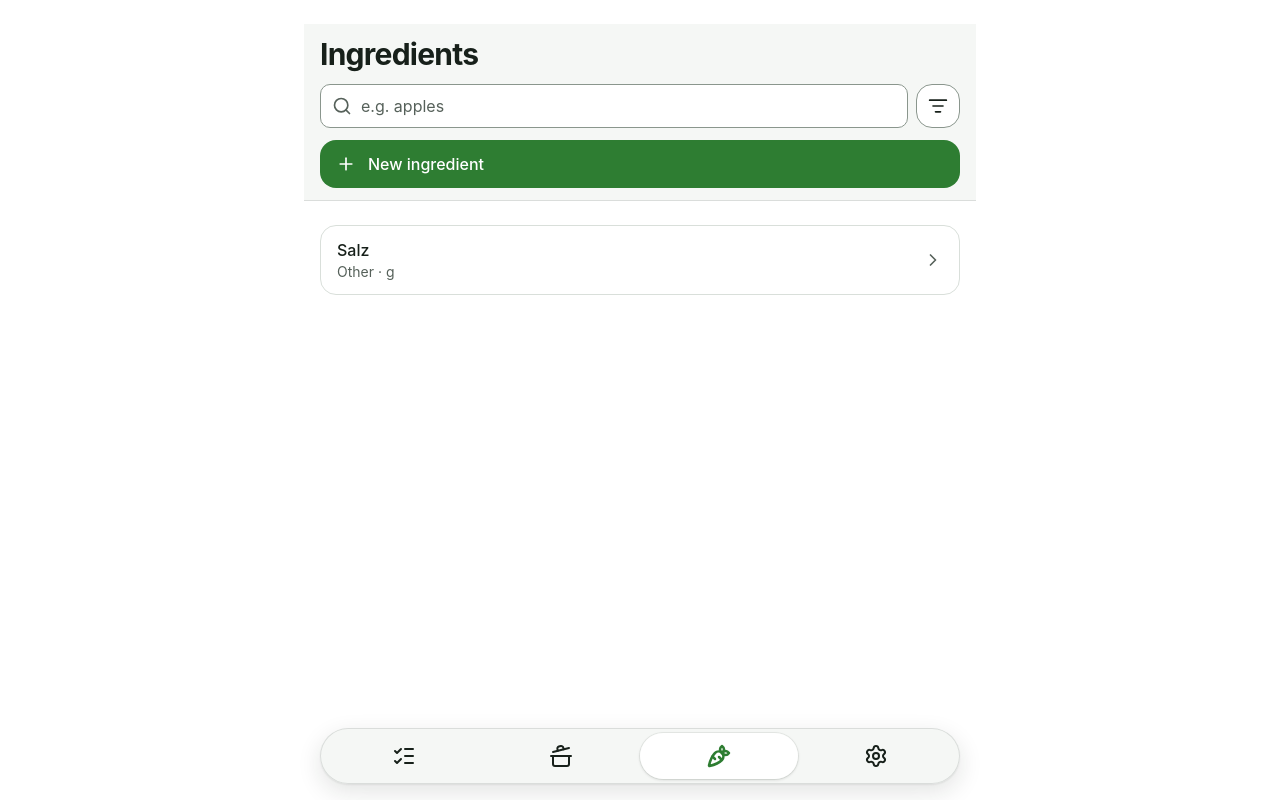
Test: OffSearchDialog › shows name, brand, package size, calories and the attribution (BAR-09, BAR-10)
Click the button with test id "new-ingredient".
click(426, 164)  # box [320,140,960,188]
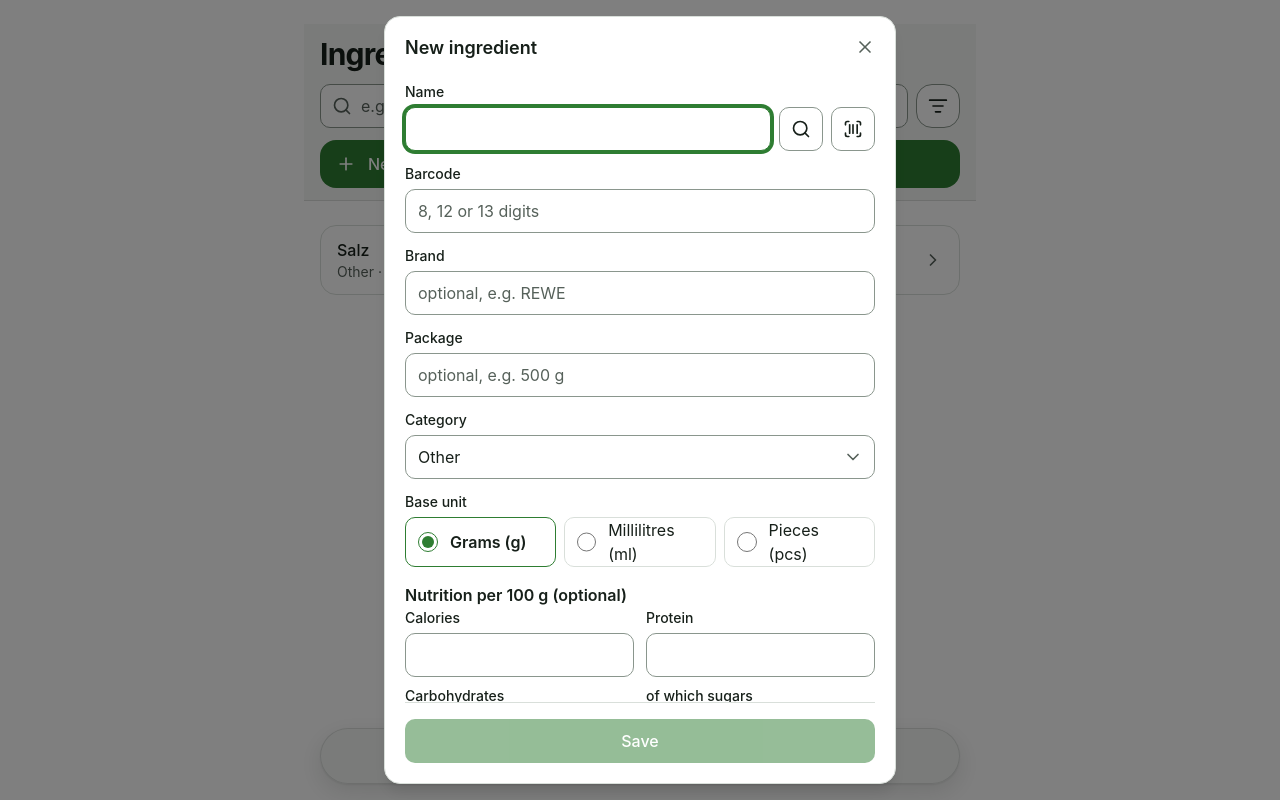
Type "Milch" into the field labelled "Name".
click(588, 129); type("Milch")  # box [405,107,771,151]
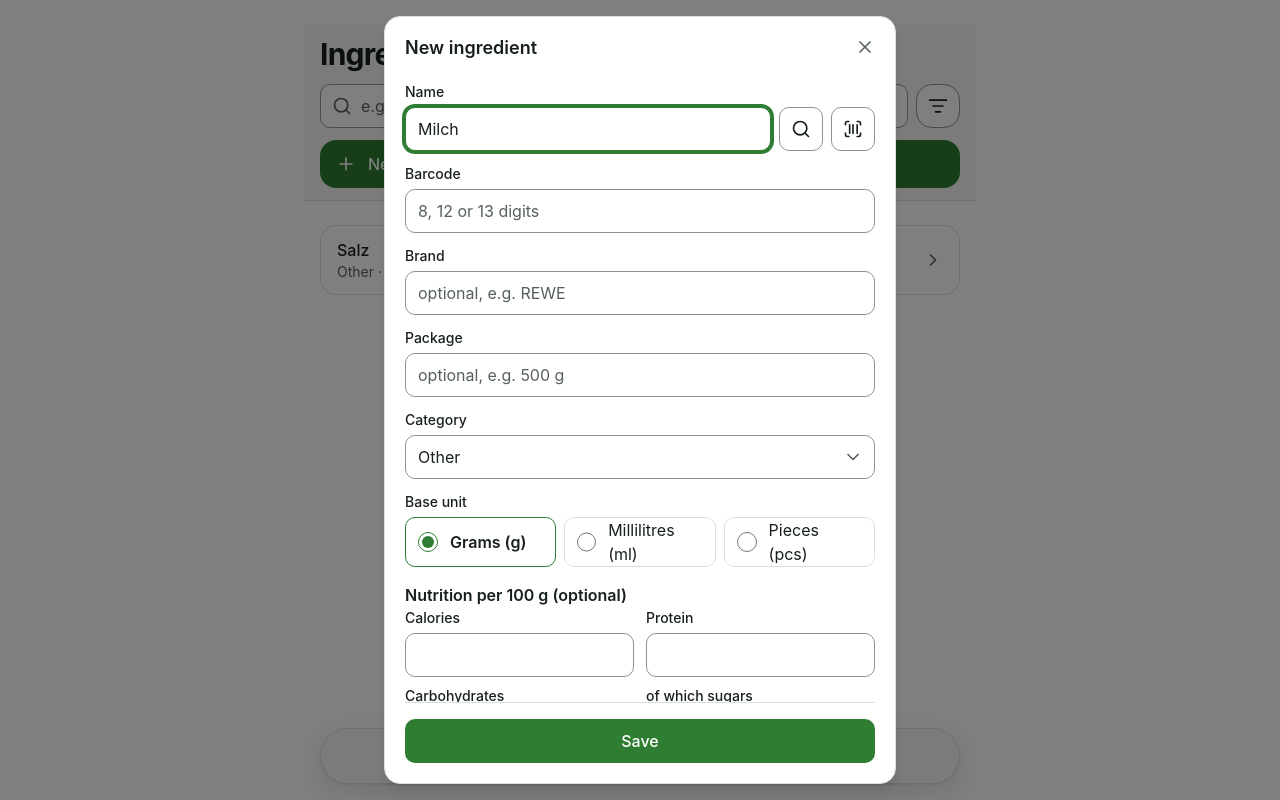
Click the button named "Search Open Food Facts".
click(801, 129)  # box [779,107,823,151]
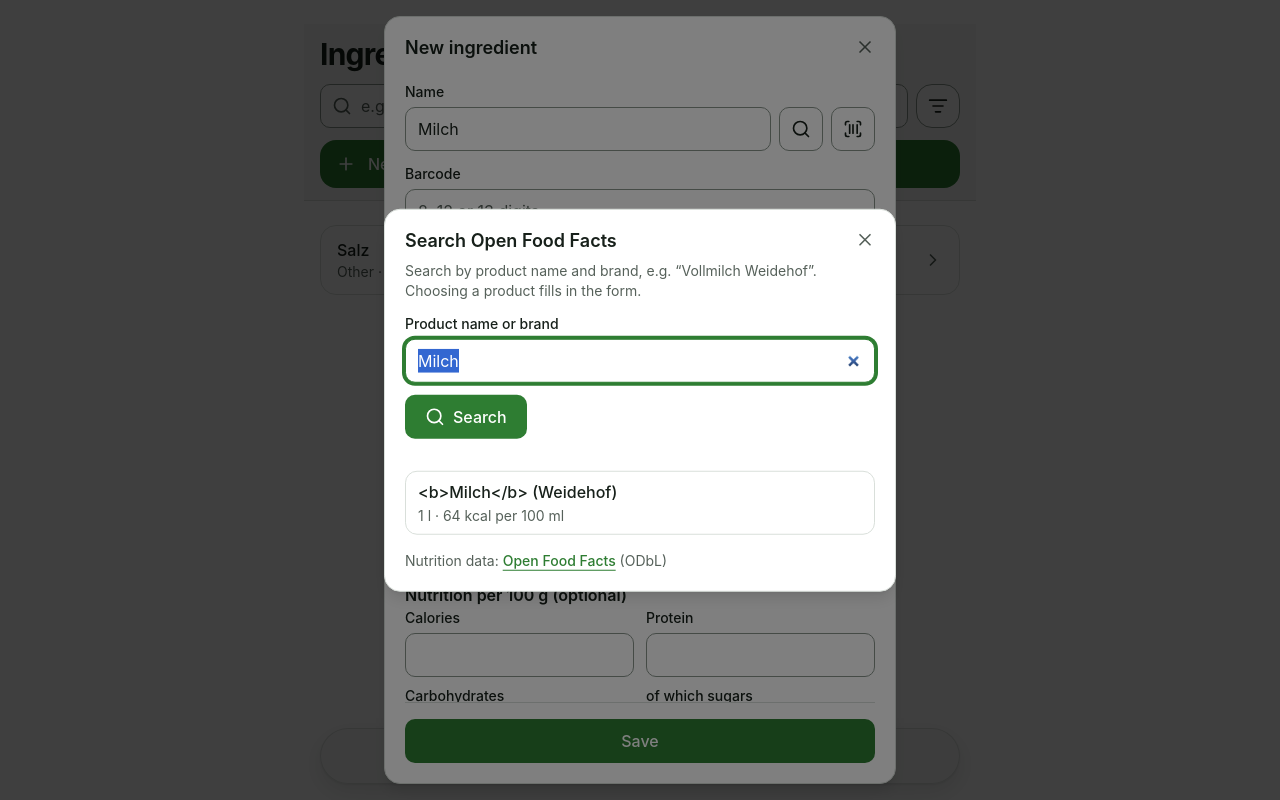
Check: the button with test id "off-search-result" reads "<b>Milch</b> (Weidehof) 1 l · 64 kcal per 100 ml", box [406,471,874,533]
Check: the element with test id "off-attribution" reads "Nutrition data: Open Food Facts (ODbL)", box [405,550,750,568]
